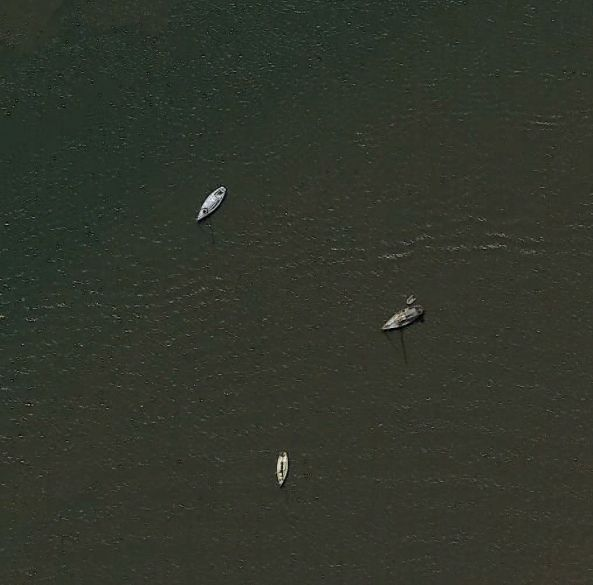boat: (195, 182, 228, 224), (381, 303, 427, 332), (273, 449, 292, 489)
